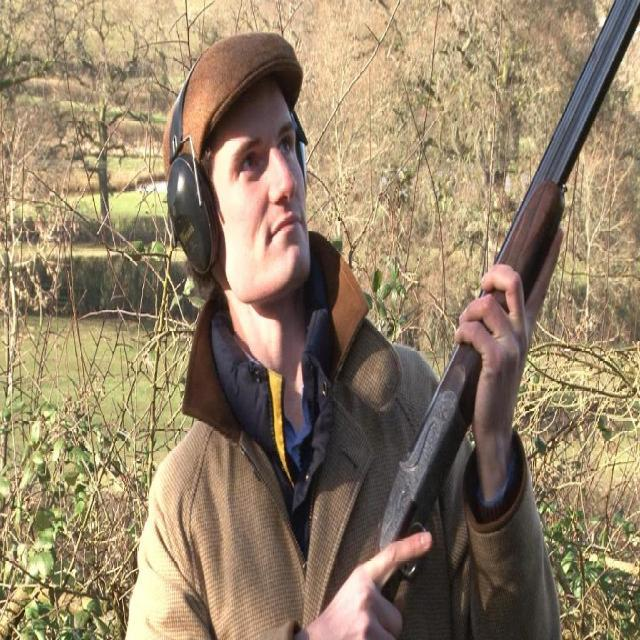weapon: (372, 0, 639, 604)
